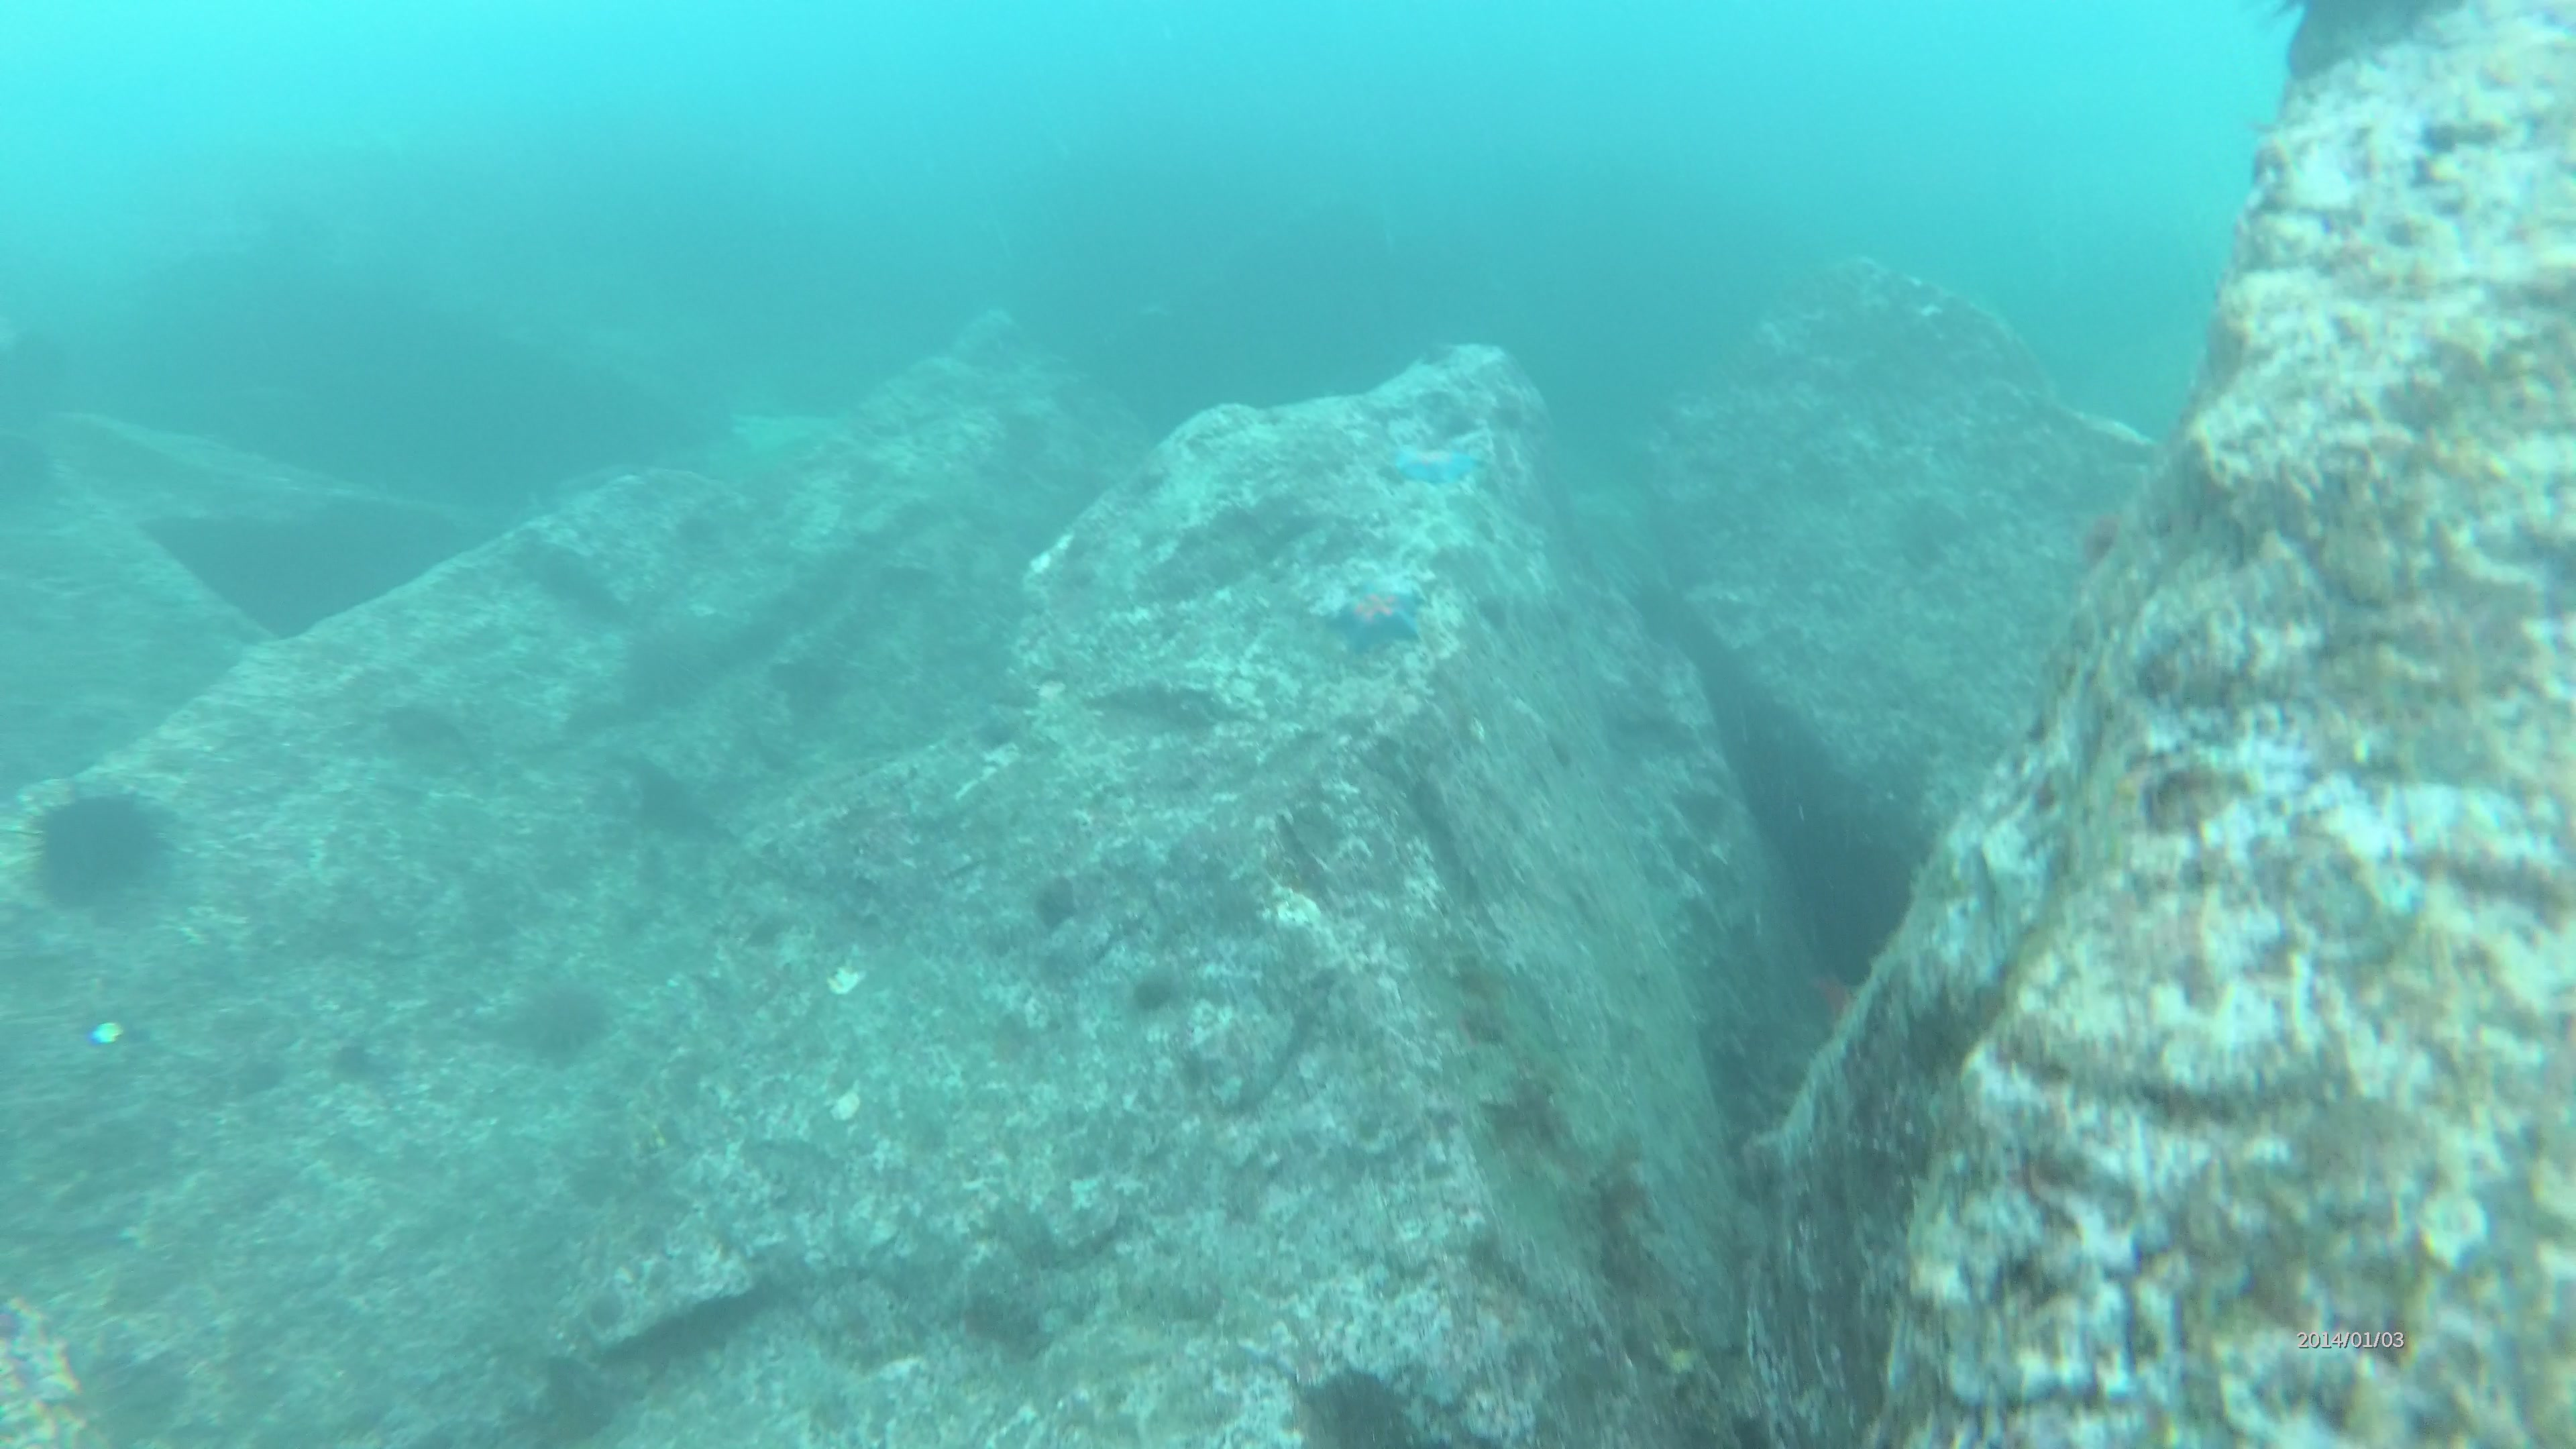echinus: (23, 770, 170, 913)
starfish: (1323, 568, 1435, 653), (1382, 435, 1493, 497)
